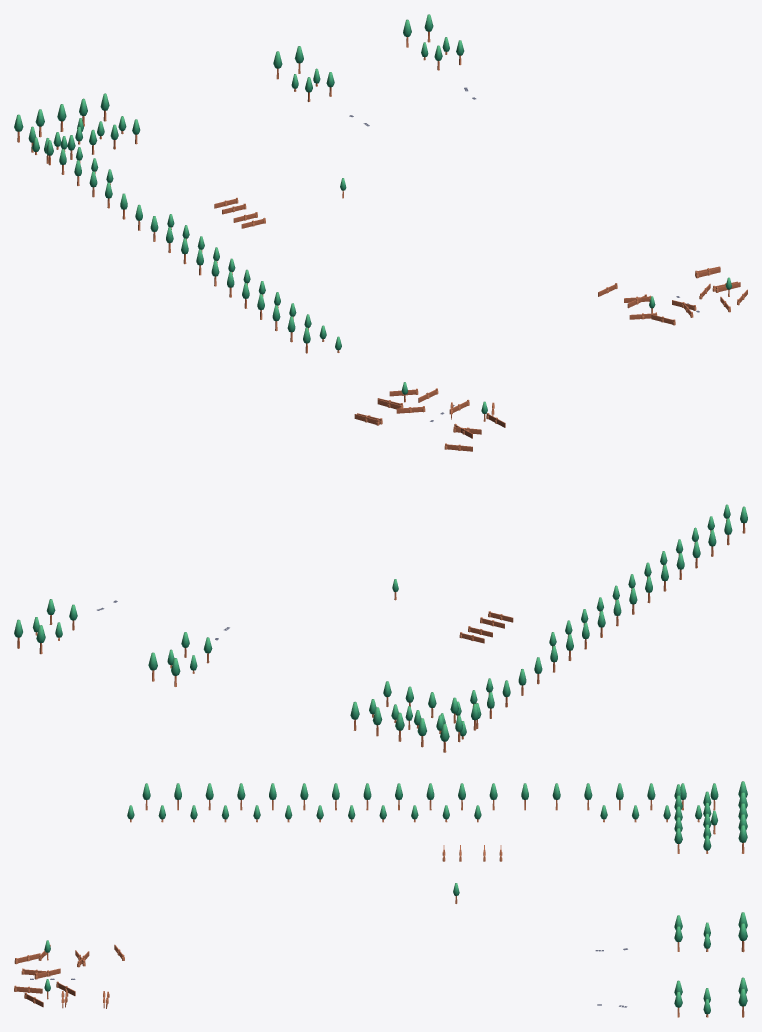
Rendered from wf02-hero-block-mass-west.glb.
3 views of the same model, one above another, from view 1: azimuth 30°, elevation 25°; view 2: azimuth 150°, elevation 25°; view 3: azimuth 270°, elevation 25° (orthographic). The views are drawn at different scales.
Bounding box in the file's own units: 34.85 × 2.15 × 51.19.
82 materials, 82 textured.
